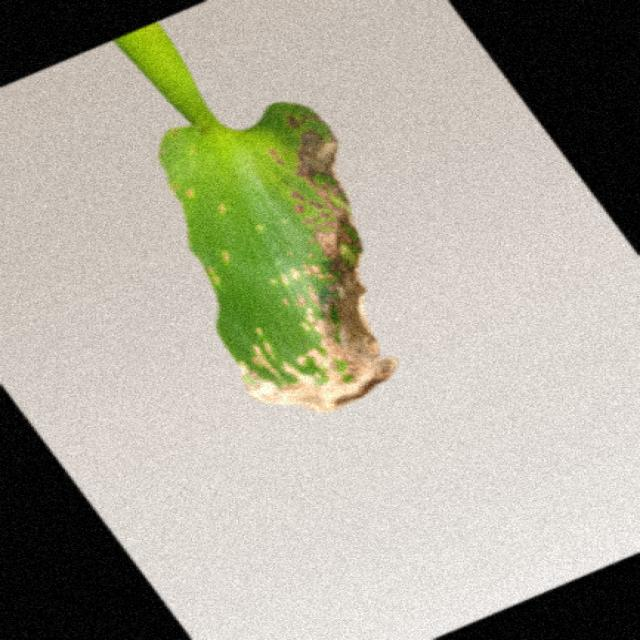daun berpenyakit bercak: (117, 24, 396, 411)
